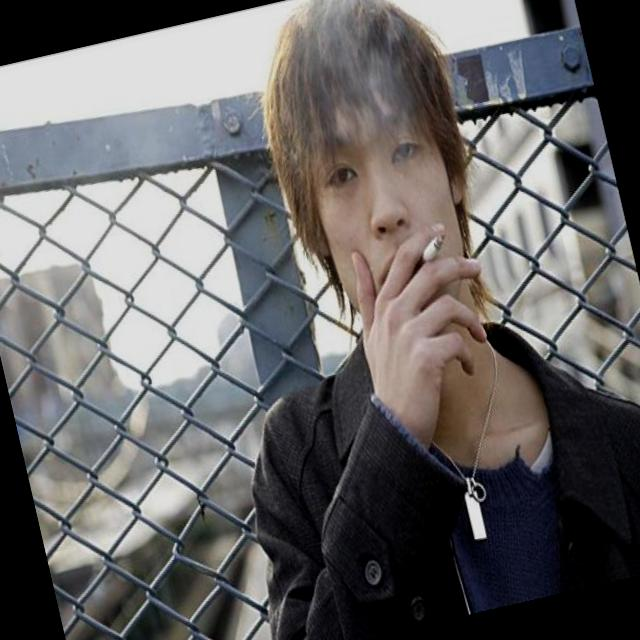smoke: (408, 222, 457, 276)
